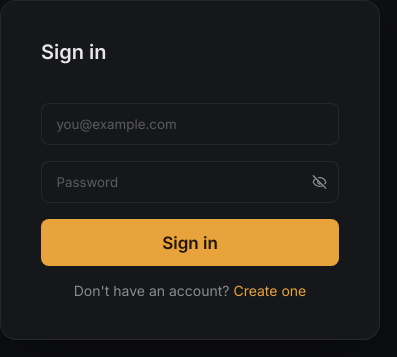
Scenario: LoginForm › disables the button and shows "Signing in…" while the request is in flight
Type "alice@example.com" into the field with placeholder "you@example.com".
click(190, 124); type("alice@example.com")  # box [41, 103, 339, 145]
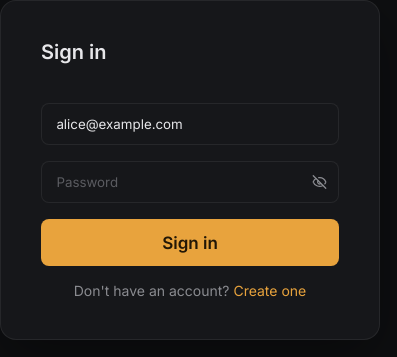
Type "Password123!" into the password field with placeholder "Password".
click(190, 182); type("Password123!")  # box [41, 161, 339, 203]
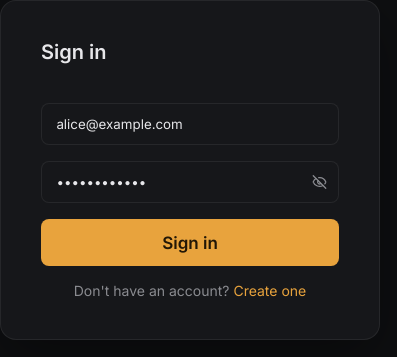
Submit the form, box [41, 41, 339, 299]
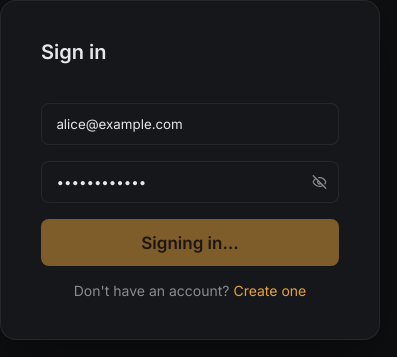
Check: the submit button is disabled, box [41, 219, 339, 266]
Check: the submit button reads "Signing in…", box [41, 219, 339, 266]
